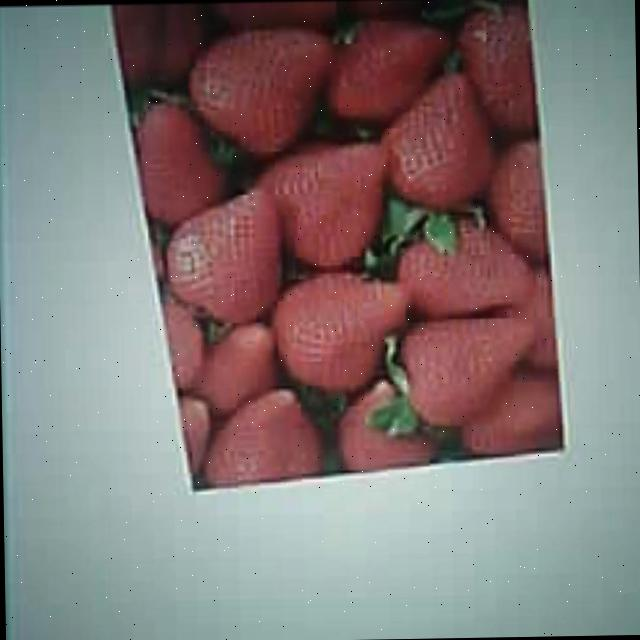strawberry: (190, 30, 330, 156), (257, 143, 388, 265), (272, 270, 406, 388), (168, 189, 280, 323), (379, 74, 491, 208), (406, 318, 534, 422)
